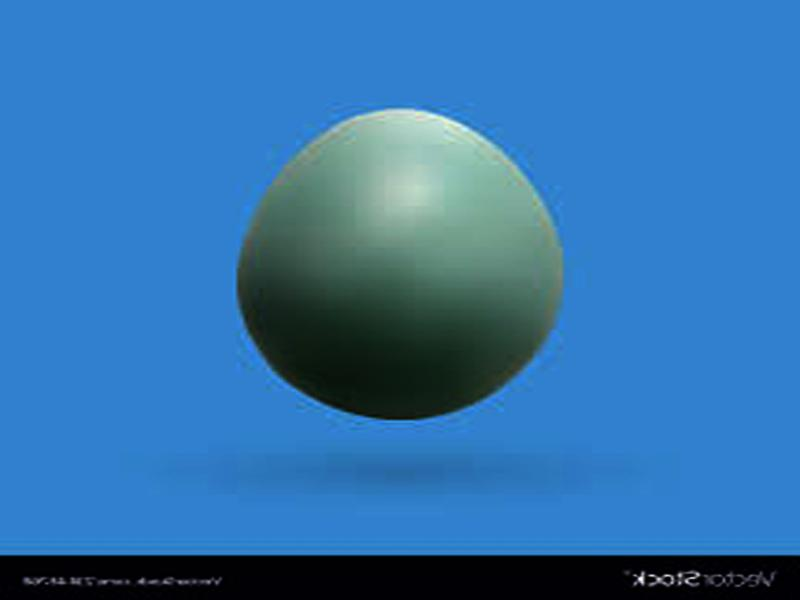Eggs: (232, 108, 562, 417)
